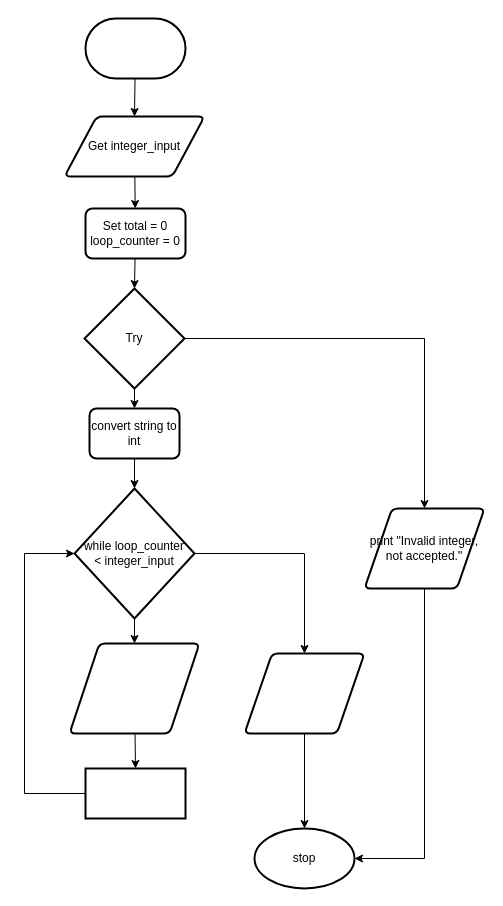
Image size: 503x906. Some labels were removed from this diagram. The box of each missing label's shape, as (x1, y1, x2, y2) in pixels:
loop_counter = loop_counter + 1: (84, 767, 186, 819)
Start: (84, 17, 186, 79)
The sum from 1 and integer_input is total: (243, 652, 365, 734)
total = total + loop_counter: (68, 642, 200, 734)
